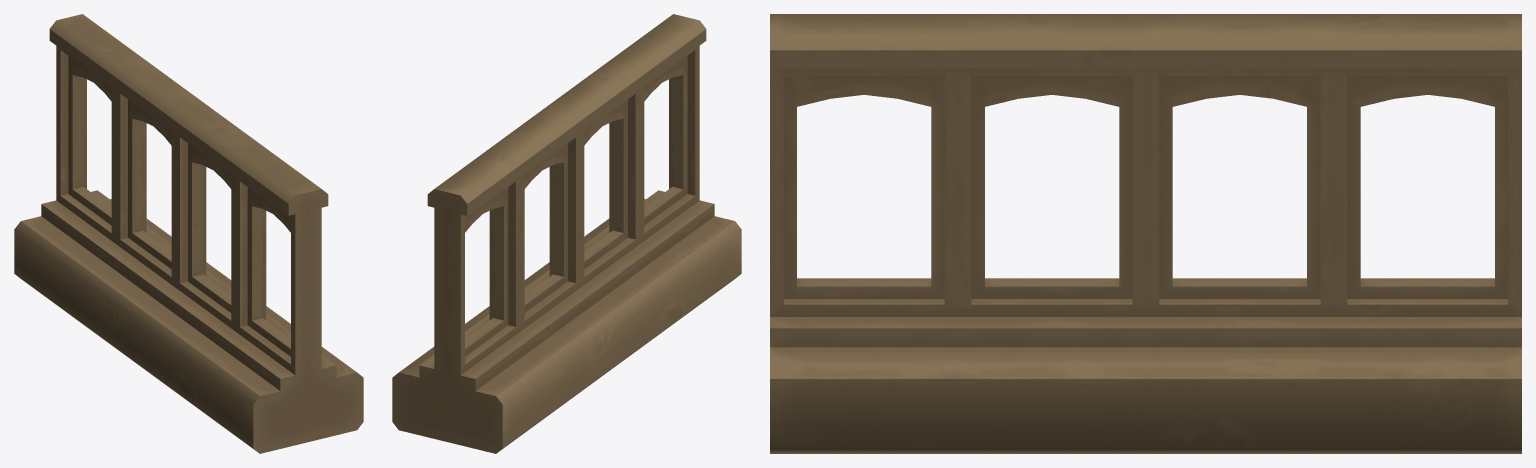
The model's file is ARC0510070.fbx.
The picture shows the model from 3 angles, left to right: view 1: azimuth 30°, elevation 25°; view 2: azimuth 150°, elevation 25°; view 3: azimuth 270°, elevation 25°; orthographic projection. The views are drawn at different scales.
Visible parts, largest first — view 1: smARC0510070; view 2: smARC0510070; view 3: smARC0510070.
Boxes of the visible parts, x1,y1,x2,y2 form: smARC0510070: [14, 14, 363, 453]; smARC0510070: [392, 14, 741, 453]; smARC0510070: [770, 14, 1521, 453].
Size of the model in its own units: 40 by 86.45 by 150.
1 material, 1 textured.
